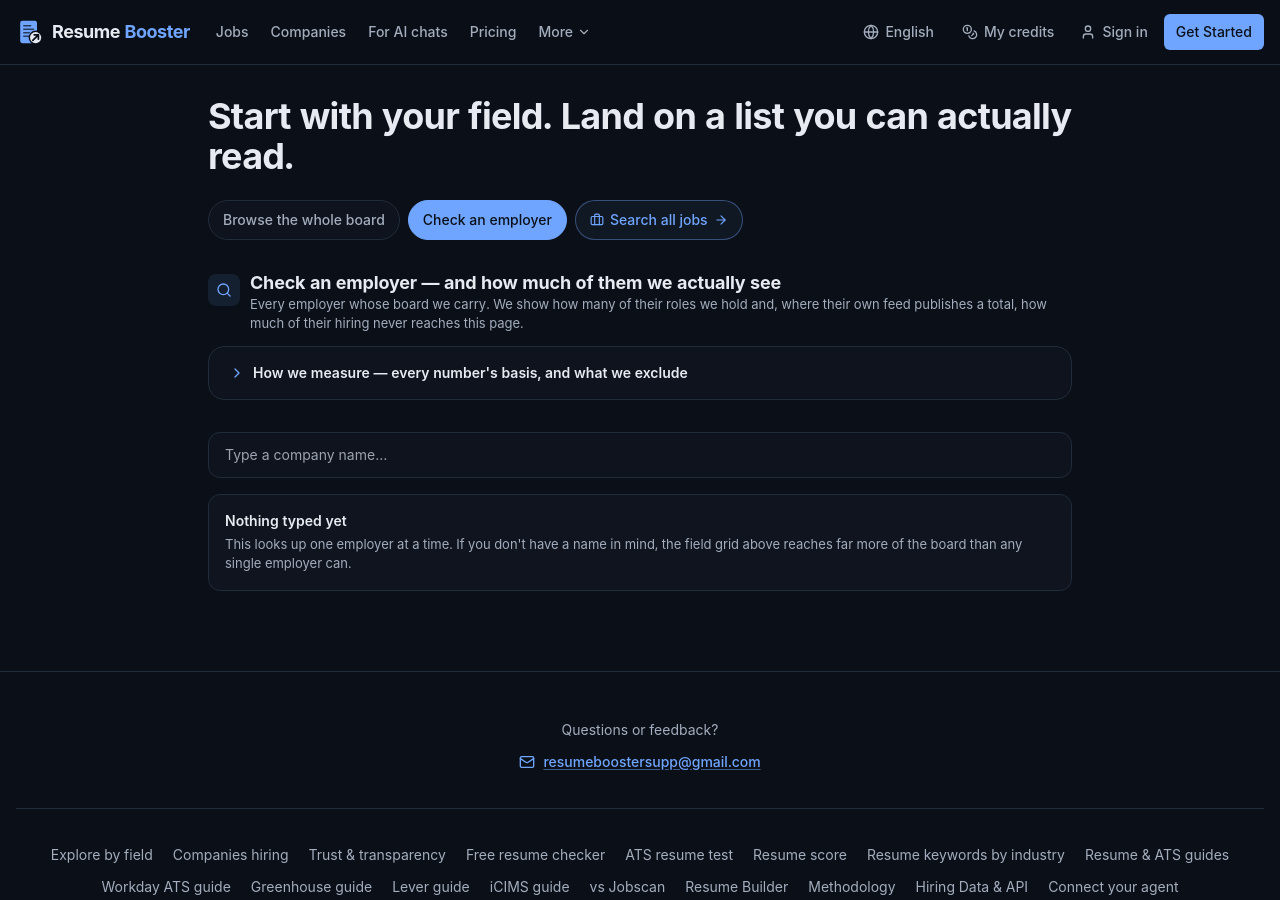
Test case: 1. the employer check's number survives its click › positive control: a single-board employer still links its lander, with the way back
Type "acme" into the search field with placeholder "Type a company name…".
click(640, 454); type("acme")  # box left=208, top=432, right=1072, bottom=478
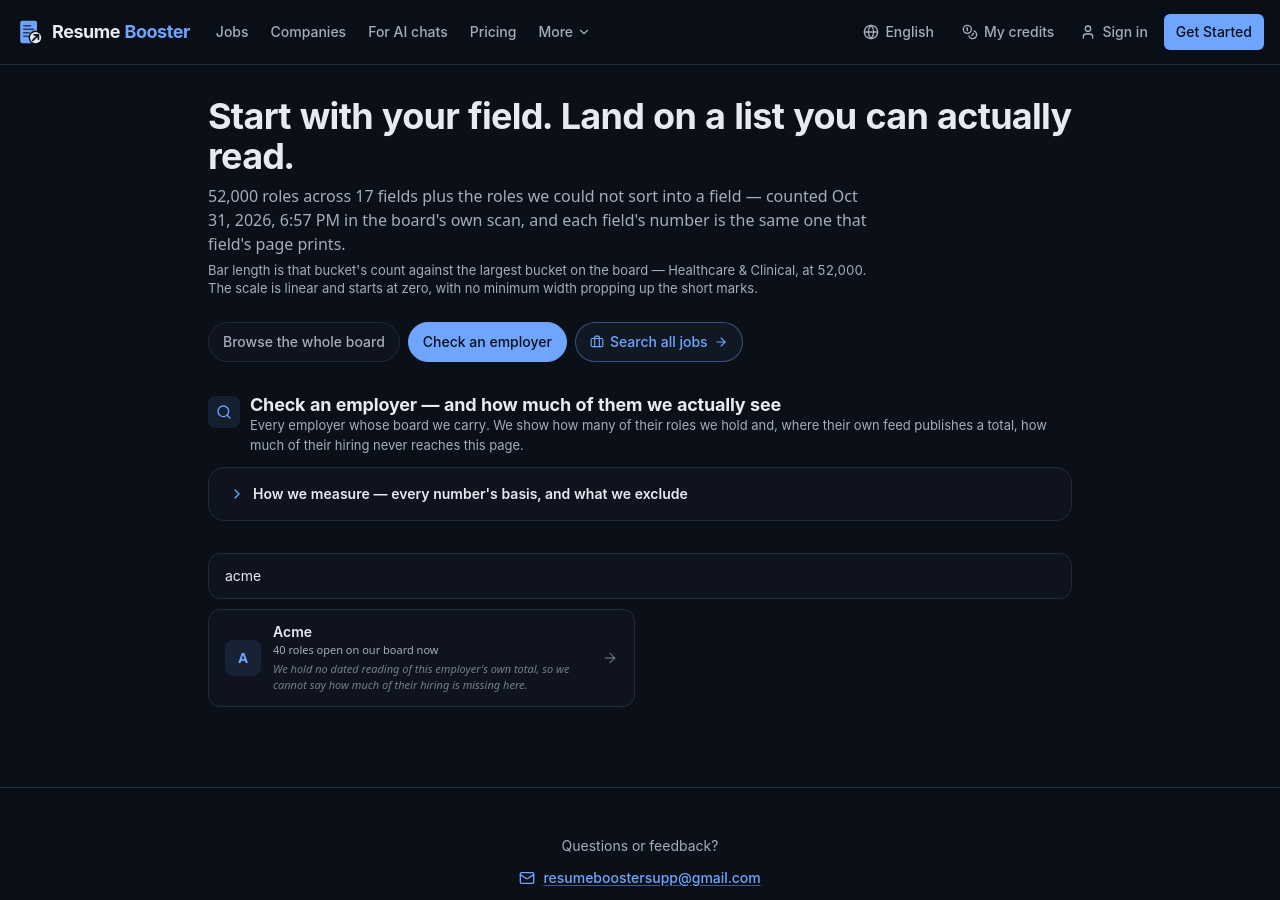
Expected: the link that starts with "Acme" shows "40", left=208, top=609, right=635, bottom=707
